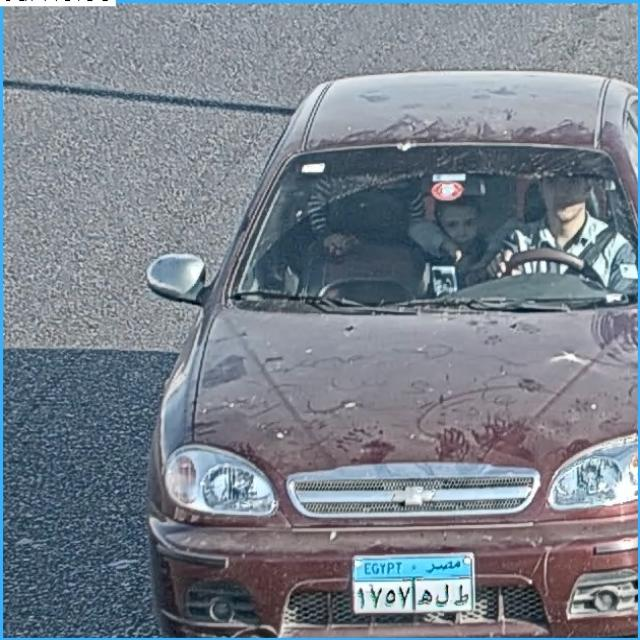windshield: (233, 148, 638, 305)
